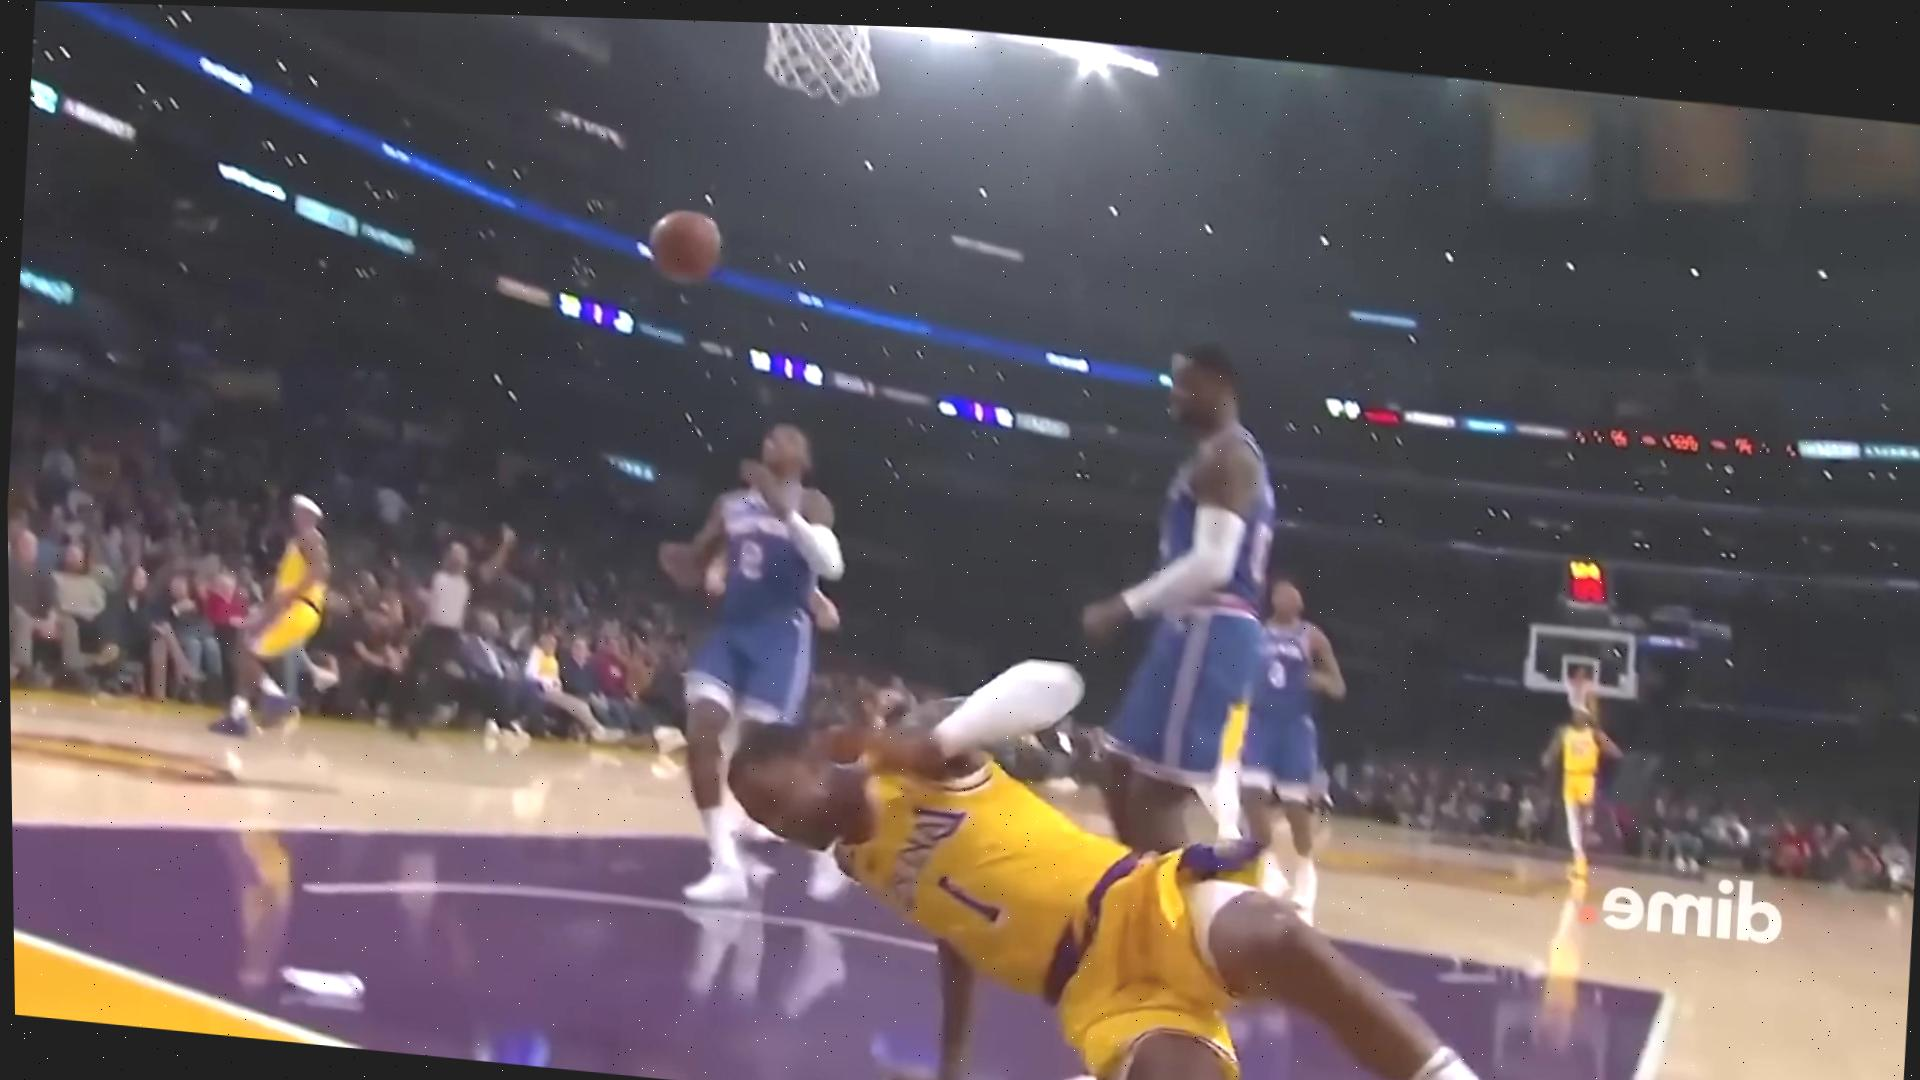no_foul: (707, 638, 1536, 1080)
